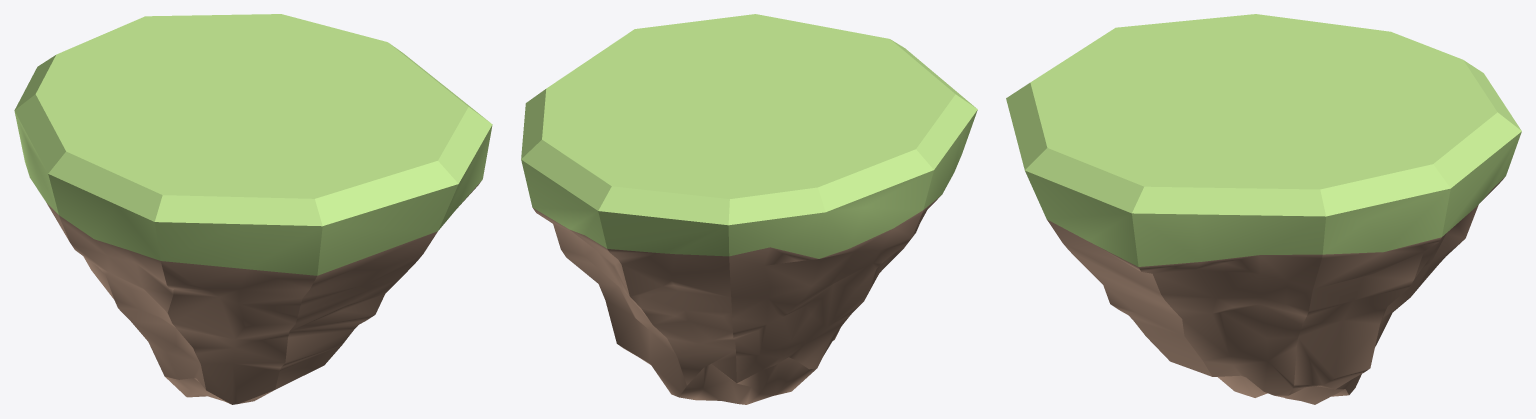
The model's file is tile_2_2.fbx.
3 renders of one model, left to right at view 1: azimuth 30°, elevation 25°; view 2: azimuth 150°, elevation 25°; view 3: azimuth 270°, elevation 25°, orthographic. The views are drawn at different scales.
Parts seen in each view (by area): view 1: Jump_Map_Tiles_2; view 2: Jump_Map_Tiles_2; view 3: Jump_Map_Tiles_2.
Part boxes in pixels (left/top/right/bottom): Jump_Map_Tiles_2: left=14, top=14, right=492, bottom=404; Jump_Map_Tiles_2: left=521, top=14, right=977, bottom=404; Jump_Map_Tiles_2: left=1006, top=14, right=1521, bottom=404.
Bounding box in the file's own units: 7.36 × 5.23 × 8.28.
